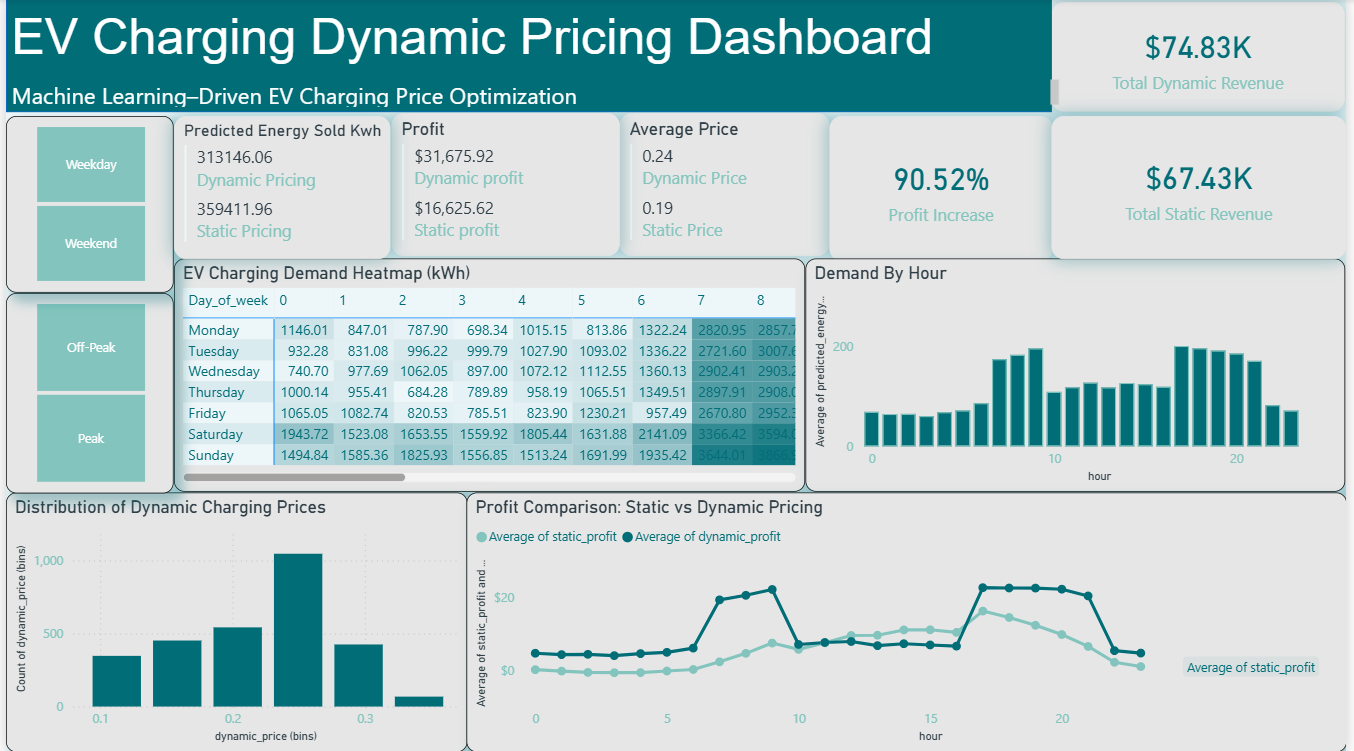

What the dashboard file says about the page in this screenshot:
{"tool":"powerbi","page":{"name":"Page 1","canvas":[1280,720],"ordinal":0},"visuals":[{"type":"multiRowCard","title":"Average Price","fields":{"Values":["Avg(public pricing_comparison.dynamic_price)","Avg(public pricing_comparison.static_retail_price)"]},"box":[585.3,108.2,200.4,136.8],"z":0},{"type":"card","fields":{"Values":["Measure Table.Profit Increase"]},"box":[785.8,111.3,213.1,138.4],"z":1000},{"type":"multiRowCard","title":"Profit","fields":{"Values":["Measure Table.Total dynamic profit","Sum(public pricing_comparison.static_profit)"]},"box":[367.4,108.2,217.9,136.8],"z":2000},{"type":"pivotTable","title":"EV Charging Demand Heatmap (kWh)","fields":{"Rows":["public pricing_comparison.day_of_week"],"Columns":["public pricing_comparison.hour"],"Values":["Sum(public pricing_comparison.predicted_energy_sold_kwh)"]},"box":[160.7,248.1,602.8,222.7],"z":3000},{"type":"columnChart","title":"Demand By Hour","fields":{"Category":["public pricing_comparison.hour"],"Y":["Avg(public pricing_comparison.predicted_energy_sold_kwh)"]},"box":[763.5,248.1,515.4,222.7],"z":4000},{"type":"clusteredColumnChart","title":"Distribution of Dynamic Charging Prices","fields":{"Category":["public pricing_comparison.dynamic_price (bins)"],"Y":["CountNonNull(public pricing_comparison.dynamic_price (bins))"]},"box":[0,471.2,440.4,247.7],"z":5000},{"type":"lineChart","title":"Profit Comparison: Static vs Dynamic Pricing","fields":{"Y":["Avg(public pricing_comparison.static_profit)","Avg(public pricing_comparison.dynamic_profit)"],"Category":["public pricing_comparison.hour"]},"box":[440.4,471.2,840.4,247.7],"z":6000},{"type":"slicer","fields":{"Values":["public pricing_comparison.Time_Category"]},"box":[0,280.1,160.3,191.1],"z":7000},{"type":"card","fields":{"Values":["Measure Table.Total Dynamic Revenue"]},"box":[998.9,3.2,279.9,105],"z":8000},{"type":"card","fields":{"Values":["Measure Table.Total Static Revenue"]},"box":[998.9,111.3,281.5,136.8],"z":9000},{"type":"slicer","fields":{"Values":["public pricing_comparison.is_weekend"]},"box":[0,111.7,160.3,168.4],"z":10000},{"type":"textbox","box":[11.1,14.3,976.6,82.7],"z":11000},{"type":"shape","box":[0,0,998.9,108.2],"z":12000},{"type":"textbox","box":[0,3.2,998.9,68.4],"z":13000},{"type":"textbox","box":[0,71.6,1010,36.6],"z":14000},{"type":"multiRowCard","title":"Predicted Energy Sold Kwh","fields":{"Values":["Sum(public pricing_comparison.Adjusted_demand_kwh)","Sum(public pricing_comparison.predicted_energy_sold_kwh)"]},"box":[160.7,111.3,206.8,136.8],"z":15000}]}

Visuals, with their boxes in screenshot pixels (x1, y1, x2, y2), scaled from the page's 1280x720 canvas onto the 1354x751 screenshot:
"Average Price" multiRowCard: box=[619, 113, 831, 256]
card - Measure Table.Profit Increase: box=[831, 116, 1057, 260]
"Profit" multiRowCard: box=[389, 113, 619, 256]
"EV Charging Demand Heatmap (kWh)" pivotTable: box=[170, 259, 808, 491]
"Demand By Hour" columnChart: box=[808, 259, 1353, 491]
"Distribution of Dynamic Charging Prices" clusteredColumnChart: box=[0, 491, 466, 750]
"Profit Comparison: Static vs Dynamic Pricing" lineChart: box=[466, 491, 1353, 750]
slicer - public pricing_comparison.Time_Category: box=[0, 292, 170, 491]
card - Measure Table.Total Dynamic Revenue: box=[1057, 3, 1353, 113]
card - Measure Table.Total Static Revenue: box=[1057, 116, 1353, 259]
slicer - public pricing_comparison.is_weekend: box=[0, 117, 170, 292]
textbox: box=[12, 15, 1045, 101]
shape: box=[0, 0, 1057, 113]
textbox: box=[0, 3, 1057, 75]
textbox: box=[0, 75, 1068, 113]
"Predicted Energy Sold Kwh" multiRowCard: box=[170, 116, 389, 259]
